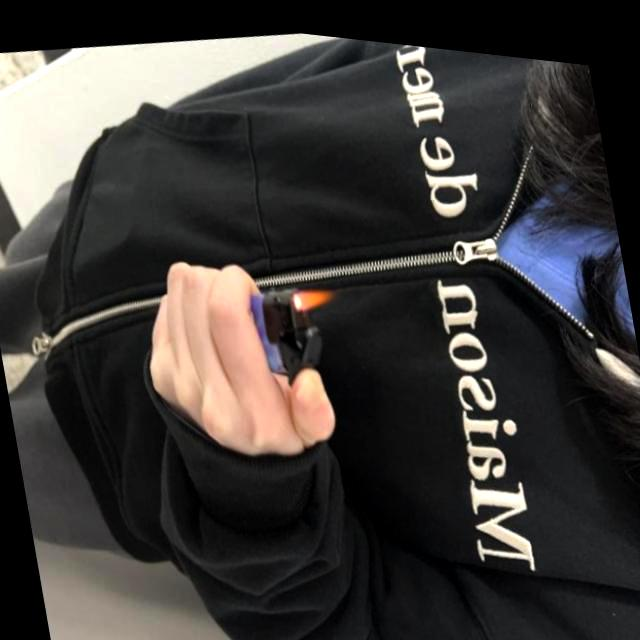fire: (288, 274, 339, 308)
